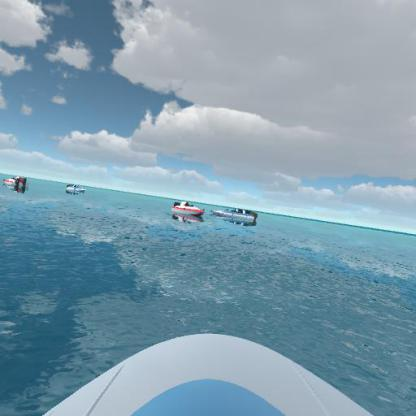usv1: (210, 202, 258, 226), (62, 180, 86, 195)
usv3: (169, 198, 206, 223), (3, 170, 36, 192)
